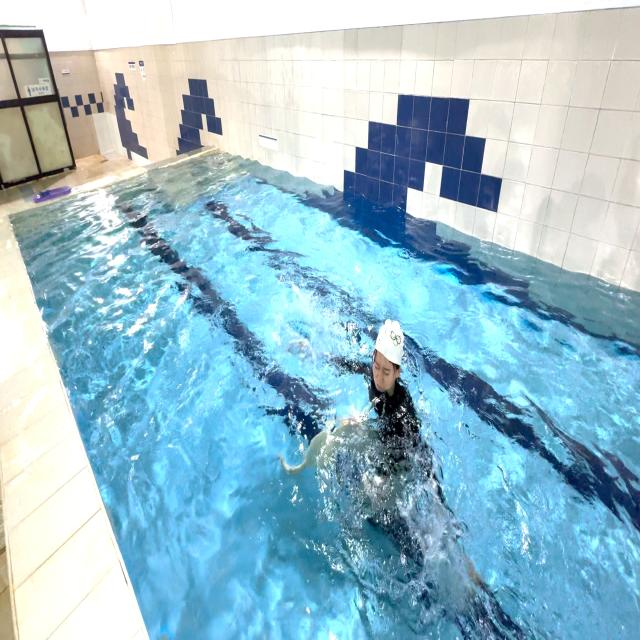Drowning: (281, 283, 453, 554)
